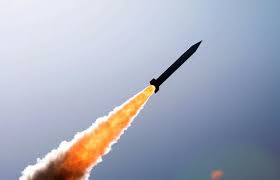ten_lua: (143, 30, 204, 101)
